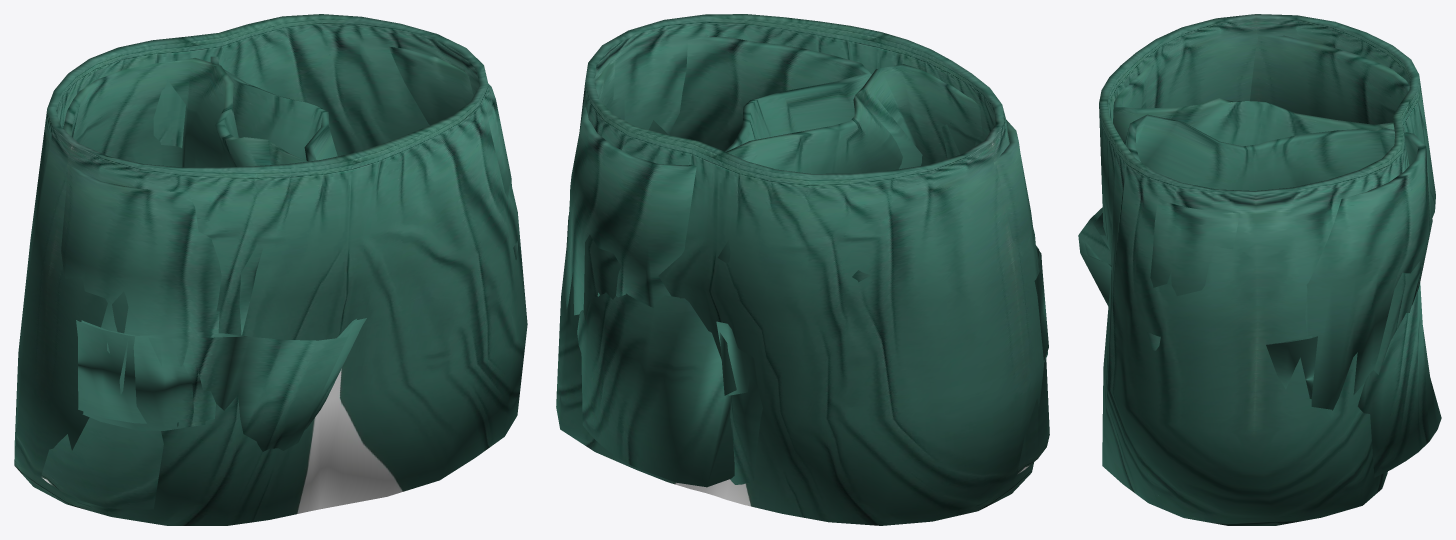
Rendered from be8e38ce-efd6-4342-894a-7f332b9f554b.glb.
3 renders of one model, left to right at view 1: azimuth 30°, elevation 25°; view 2: azimuth 150°, elevation 25°; view 3: azimuth 270°, elevation 25°, orthographic. The views are drawn at different scales.
Parts seen in each view (by area): view 1: garment_leg0; view 2: garment_leg0; view 3: garment_leg0.
Boxes of the visible parts, bbox=[...] form: garment_leg0: bbox=[14, 14, 527, 525]; garment_leg0: bbox=[556, 14, 1049, 525]; garment_leg0: bbox=[1078, 14, 1441, 525].
Bounding box in the file's own units: 0.4227 × 0.3242 × 0.3108.
Materials: 1 (1 with a texture image).
